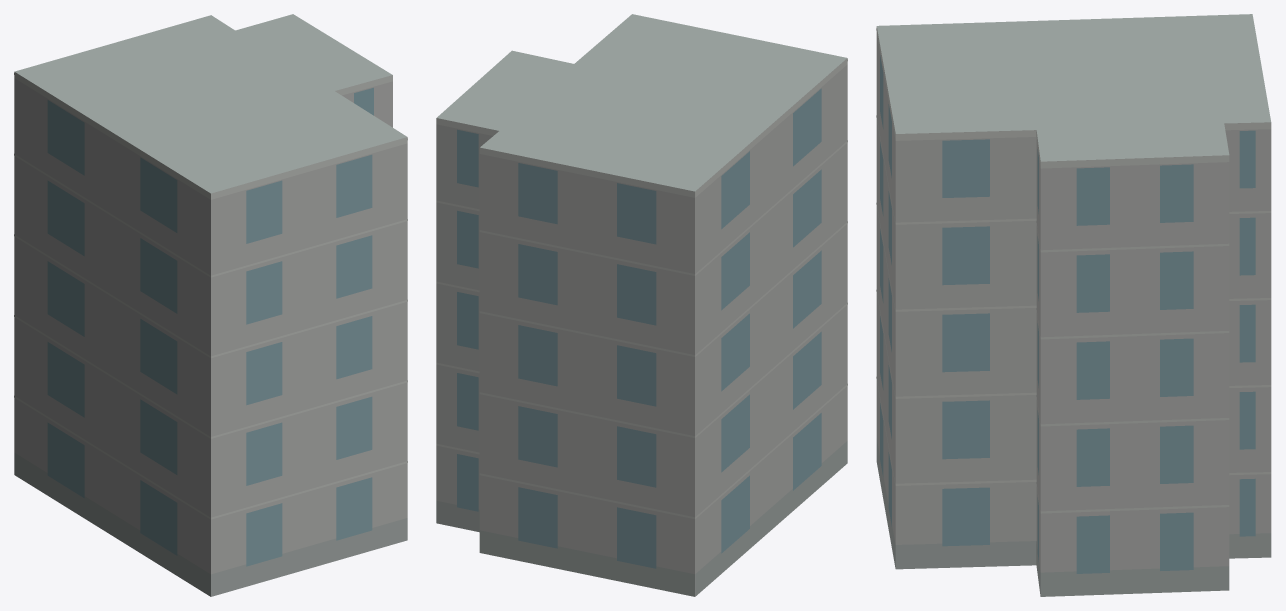
File: survey-upis-32715710.glb
3 renders of one model, left to right at view 1: azimuth 30°, elevation 25°; view 2: azimuth 150°, elevation 25°; view 3: azimuth 270°, elevation 25°, orthographic. The views are drawn at different scales.
Parts seen in each view (by area): view 1: survey-upis-32715710.tmp; view 2: survey-upis-32715710.tmp; view 3: survey-upis-32715710.tmp.
Part boxes in pixels (<box>): survey-upis-32715710.tmp: <box>14,14,407,596</box>; survey-upis-32715710.tmp: <box>436,14,847,596</box>; survey-upis-32715710.tmp: <box>876,14,1271,596</box>.
Bounding box in the file's own units: 11.28 × 15.46 × 12.73.
